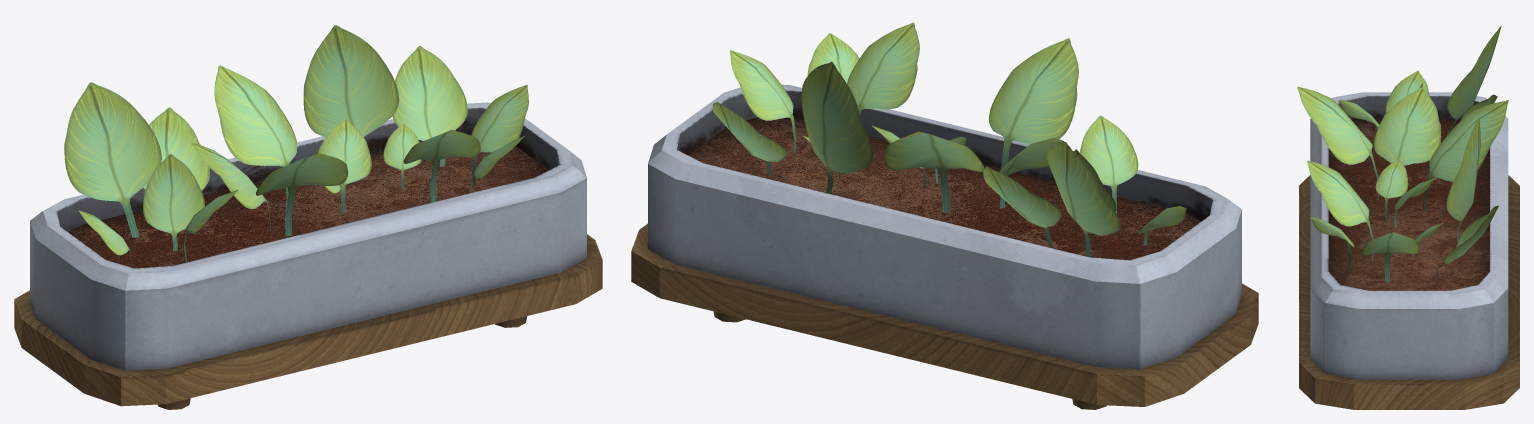
Rendered from PLANTA2_fbx.fbx.
The picture shows the model from 3 angles, left to right: view 1: azimuth 30°, elevation 25°; view 2: azimuth 150°, elevation 25°; view 3: azimuth 270°, elevation 25°; orthographic projection. The views are drawn at different scales.
Visible parts, largest first — view 1: group2; view 2: group2; view 3: group2.
Part boxes in pixels (x1,y1,x2,y2): group2: [14, 25, 602, 409]; group2: [631, 22, 1258, 409]; group2: [1297, 26, 1519, 409].
Size of the model in its own units: 1 by 0.5267 by 0.4463.
1 material, 1 textured.
